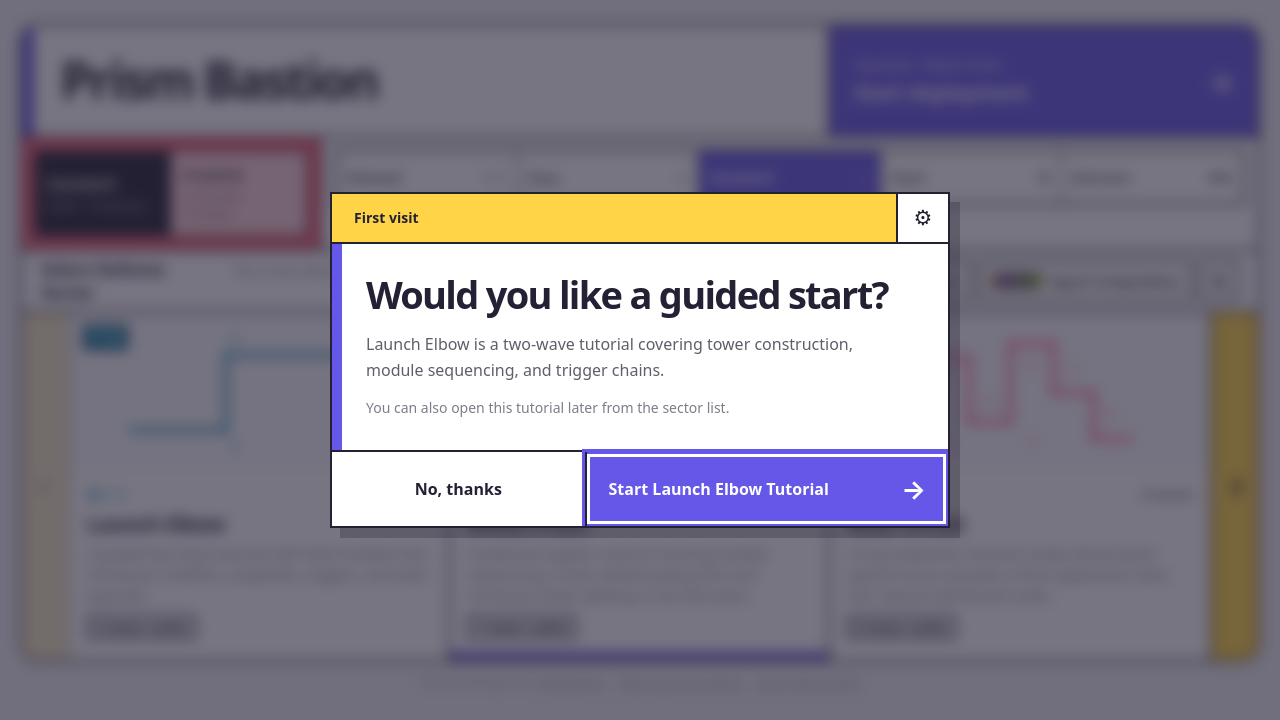
Test case: level selection accessibility › switches the complete interface language and updates the document locale
Click the button "No, thanks". click: (458,489)
box: 332,452 -> 584,526
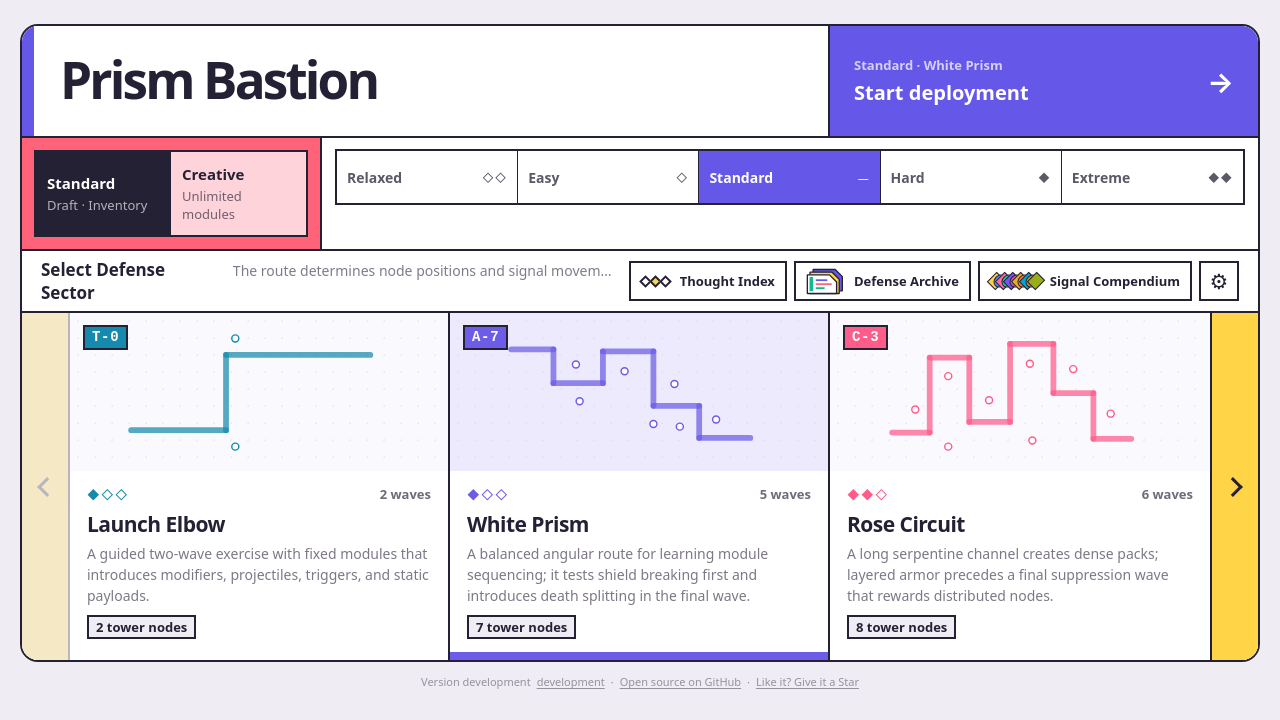
Click the button named "Settings". click: (1219,281)
box: 1199,261 -> 1239,301
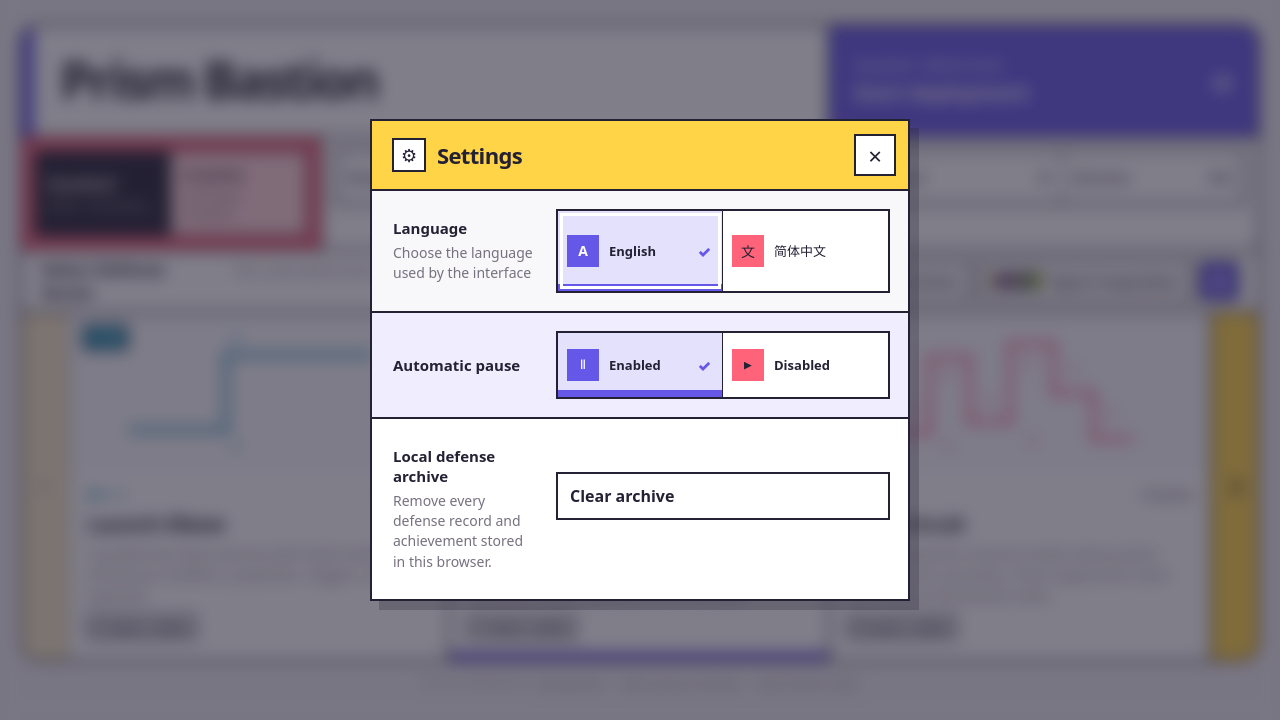
Click the button "文 简体中文". click: (806,251)
box: 723,211 -> 888,291
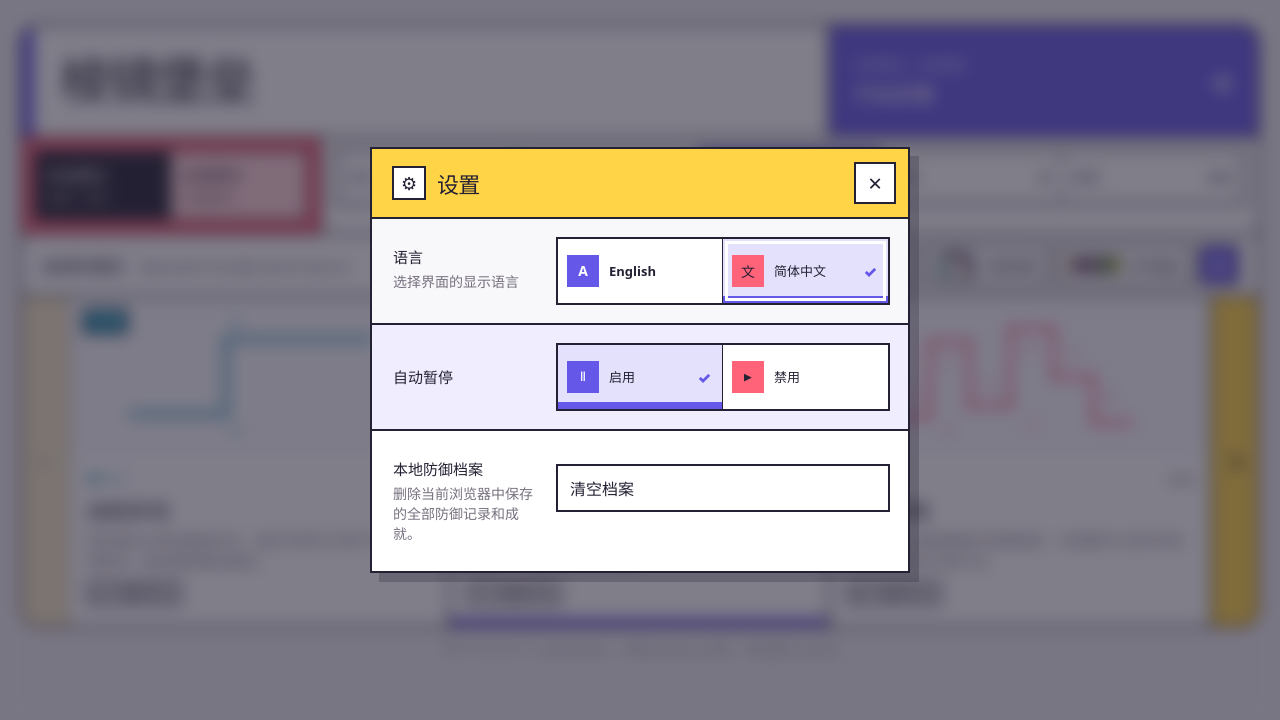
Result: the dialog "设置" is shown at 370,146 -> 910,573
Result: the button named "关闭设置" is shown at 854,162 -> 896,204
Result: the heading "棱镜堡垒" is shown at 60,55 -> 254,104
